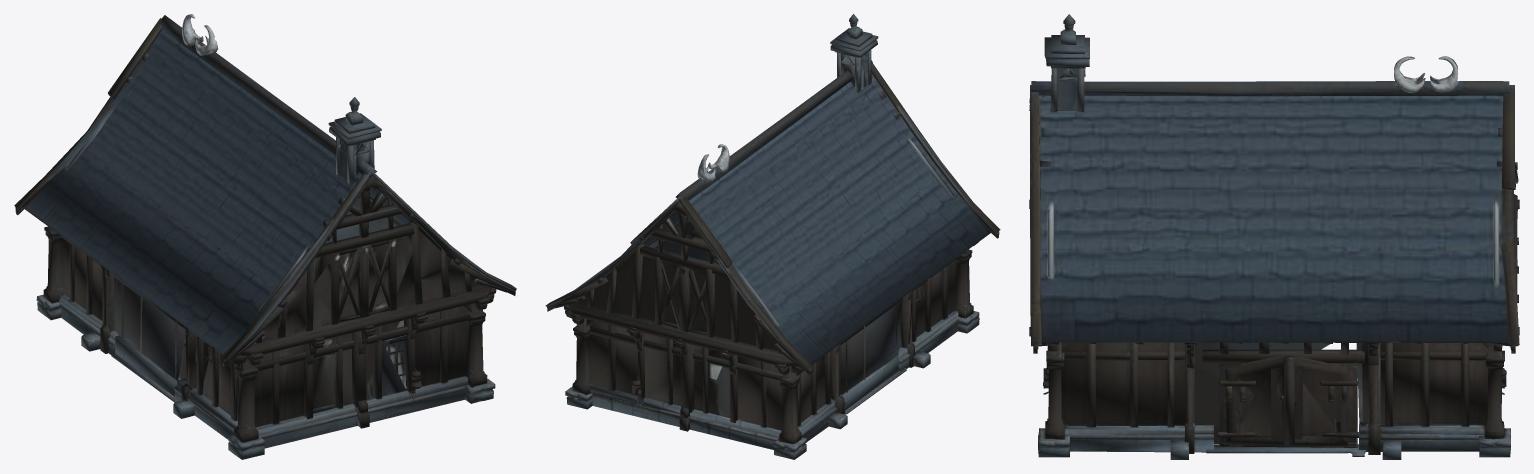
File: house-long.glb
3 renders of one model, left to right at view 1: azimuth 30°, elevation 25°; view 2: azimuth 150°, elevation 25°; view 3: azimuth 270°, elevation 25°, orthographic. The views are drawn at different scales.
Bounding box in the file's own units: 0.7505 × 0.7944 × 0.9468.
1 material, 1 textured.
